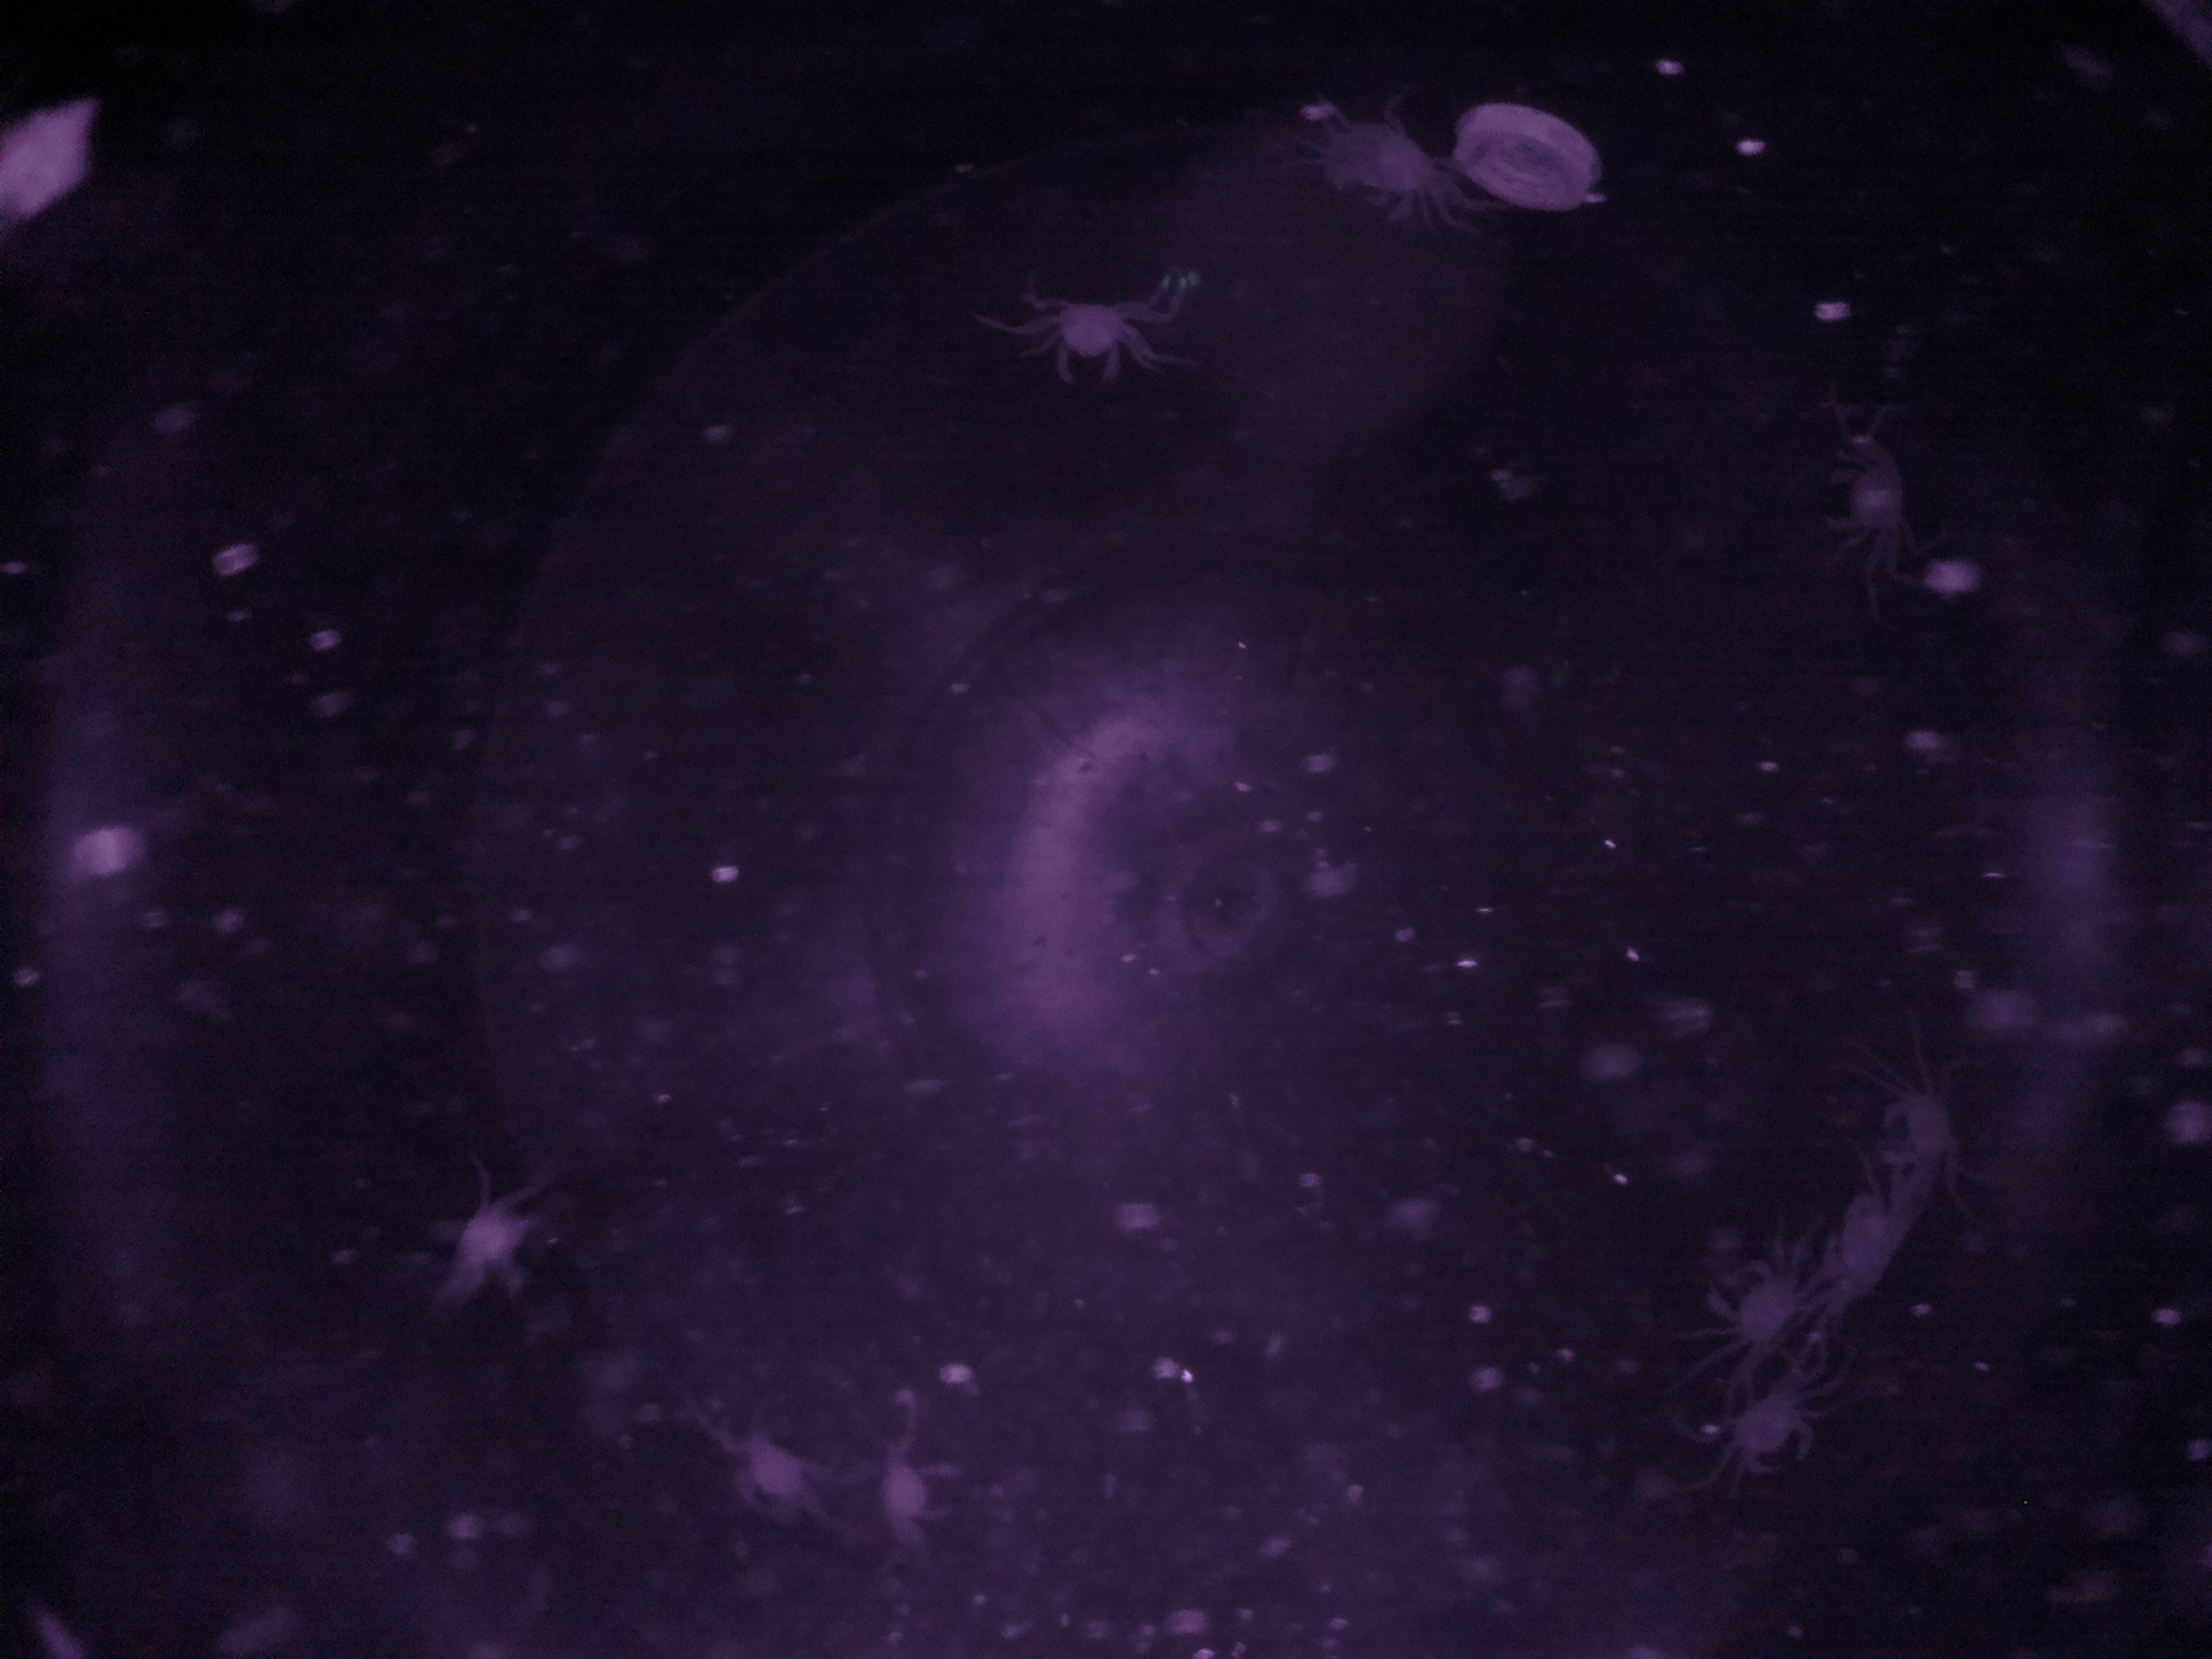Crab: (1700, 1237, 1822, 1373), (1042, 279, 1141, 403)
